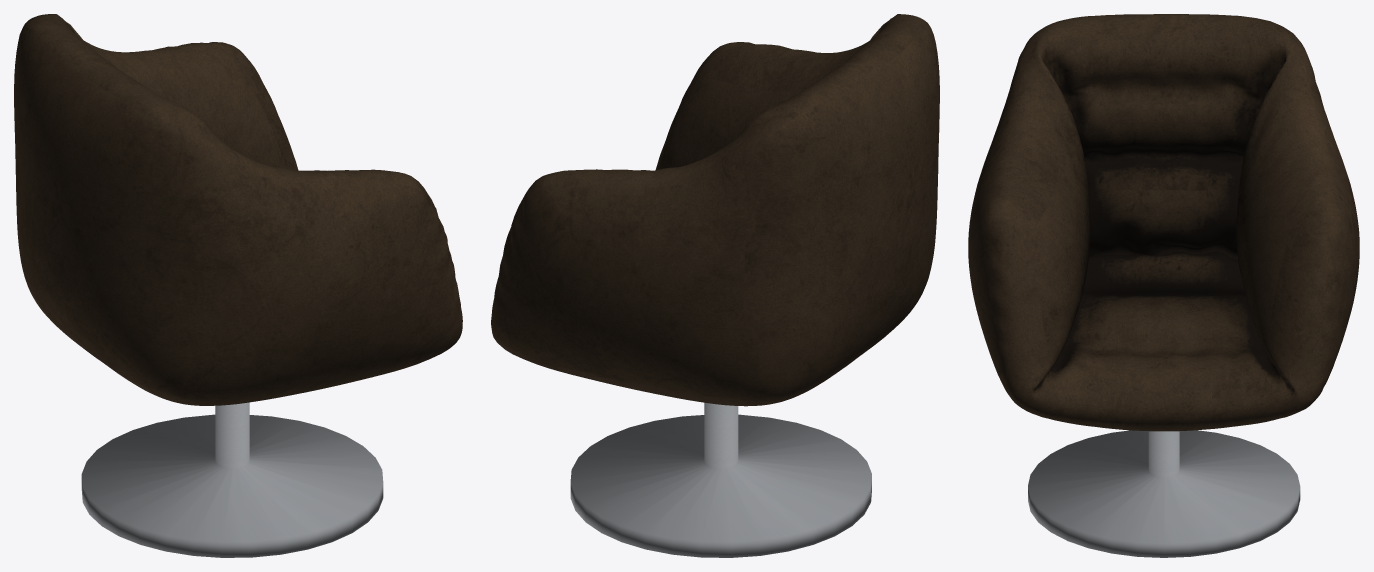
Rendered from Chair.fbx.
3 renders of one model, left to right at view 1: azimuth 30°, elevation 25°; view 2: azimuth 150°, elevation 25°; view 3: azimuth 270°, elevation 25°, orthographic. The views are drawn at different scales.
Visible parts, largest first — view 1: Chair, Chair_Socket; view 2: Chair, Chair_Socket; view 3: Chair, Chair_Socket.
Boxes of the visible parts, x1,y1,x2,y2 form: Chair: (14,14,462,405); Chair_Socket: (81,402,383,557); Chair: (491,14,939,406); Chair_Socket: (570,402,871,557); Chair: (968,14,1359,431); Chair_Socket: (1028,430,1300,557).
Bounding box in the file's own units: 216 × 287 × 241.
